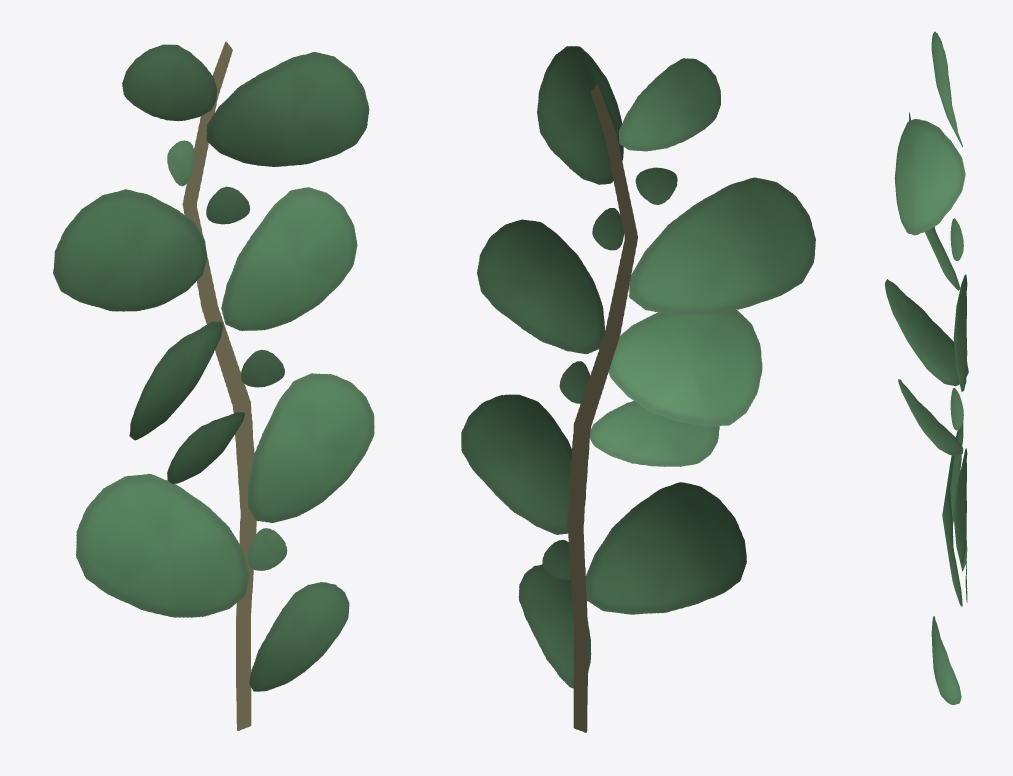
File: Tige_plante_sanctu2.fbx
The picture shows the model from 3 angles, left to right: view 1: azimuth 30°, elevation 25°; view 2: azimuth 150°, elevation 25°; view 3: azimuth 270°, elevation 25°; orthographic projection. The views are drawn at different scales.
Visible parts, largest first — view 1: Tige_plante_sanctu2; view 2: Tige_plante_sanctu2; view 3: Tige_plante_sanctu2.
Part boxes in pixels (bbox=[...]): Tige_plante_sanctu2: bbox=[53, 41, 374, 730]; Tige_plante_sanctu2: bbox=[461, 46, 815, 732]; Tige_plante_sanctu2: bbox=[884, 31, 968, 704].
Bounding box in the file's own units: 5.91 × 10.4 × 1.73.
1 material, 1 textured.
